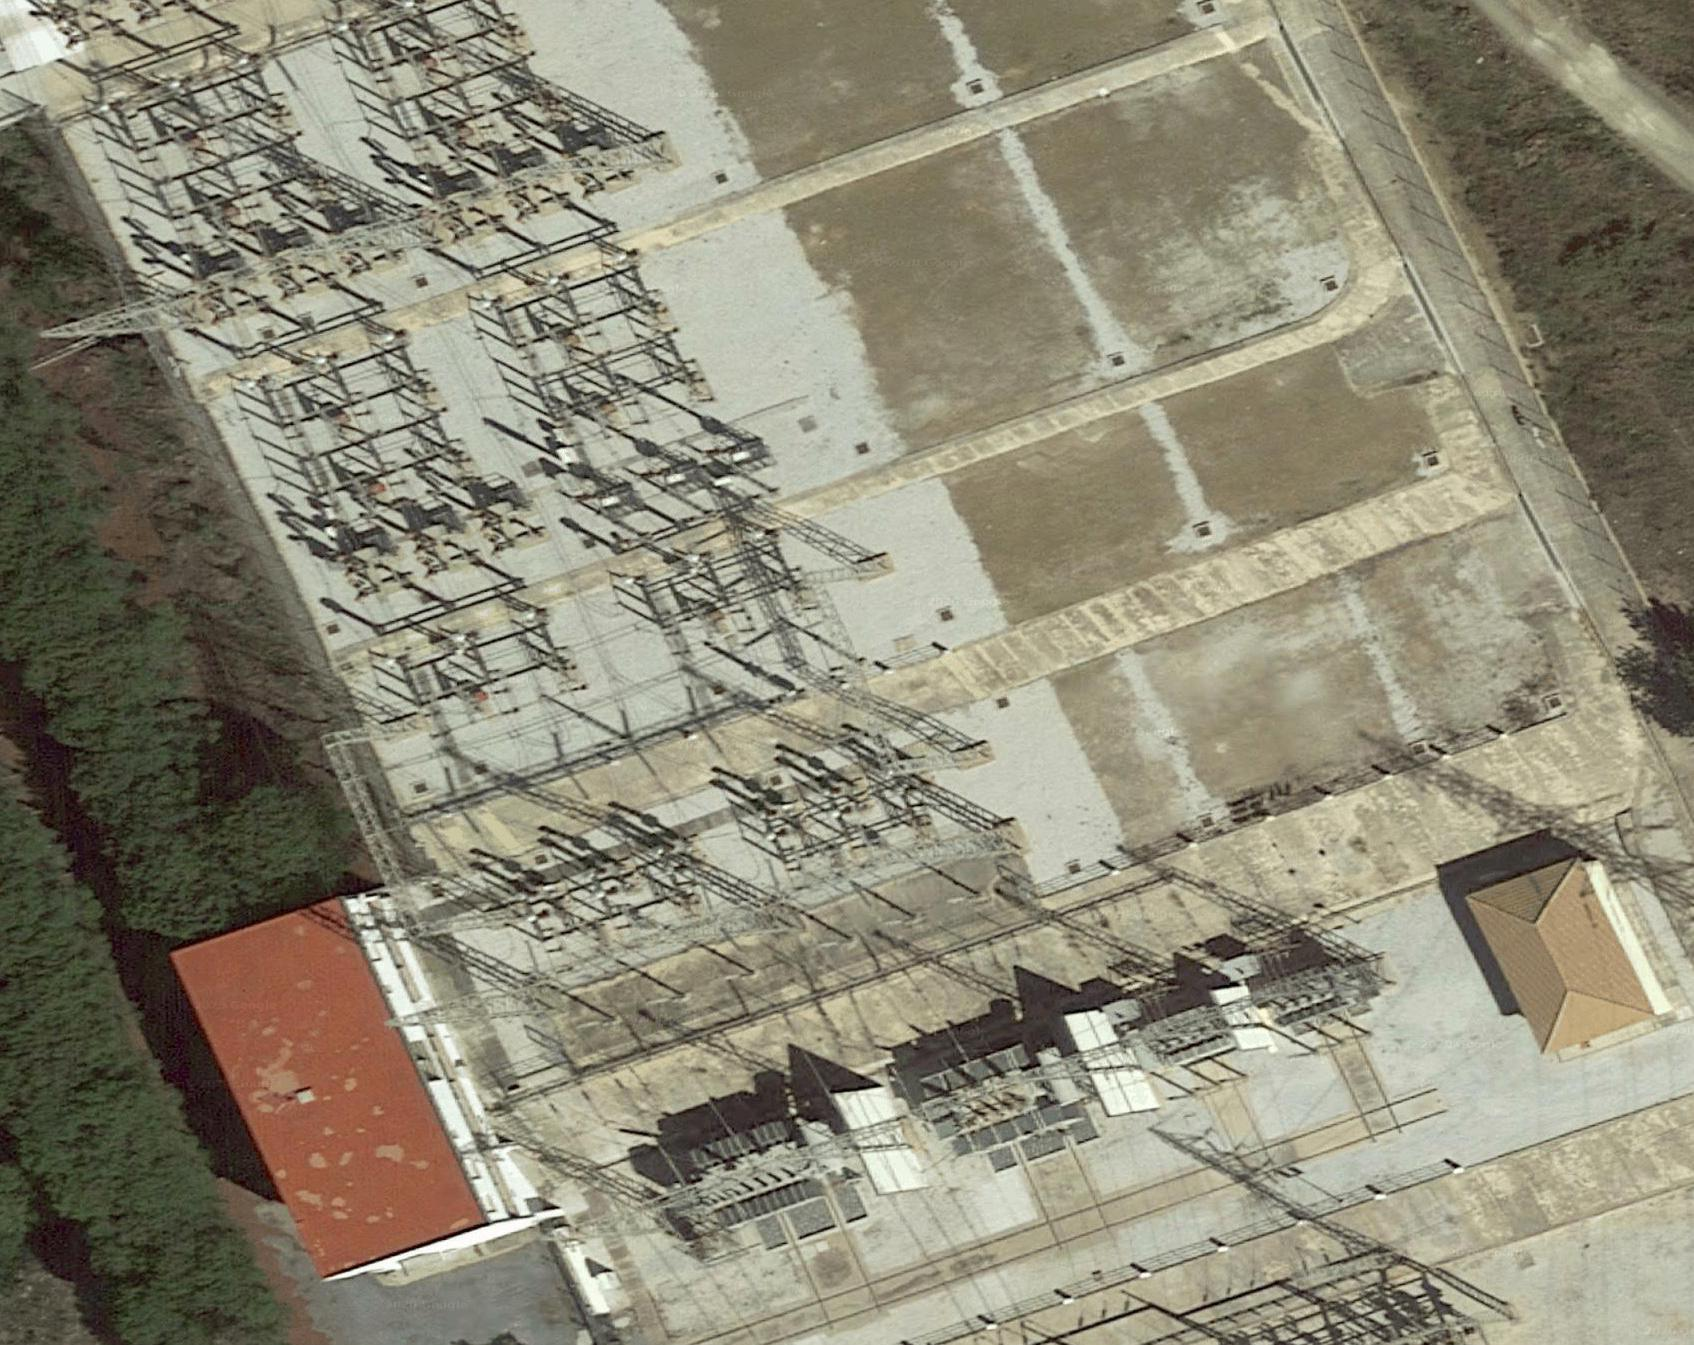substation: (25, 1, 1532, 1345)
